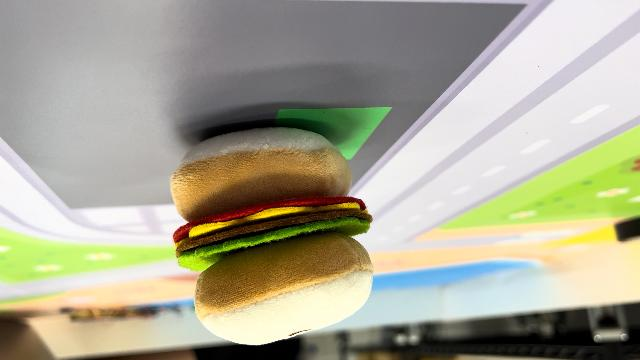sandwich: (166, 124, 378, 346)
